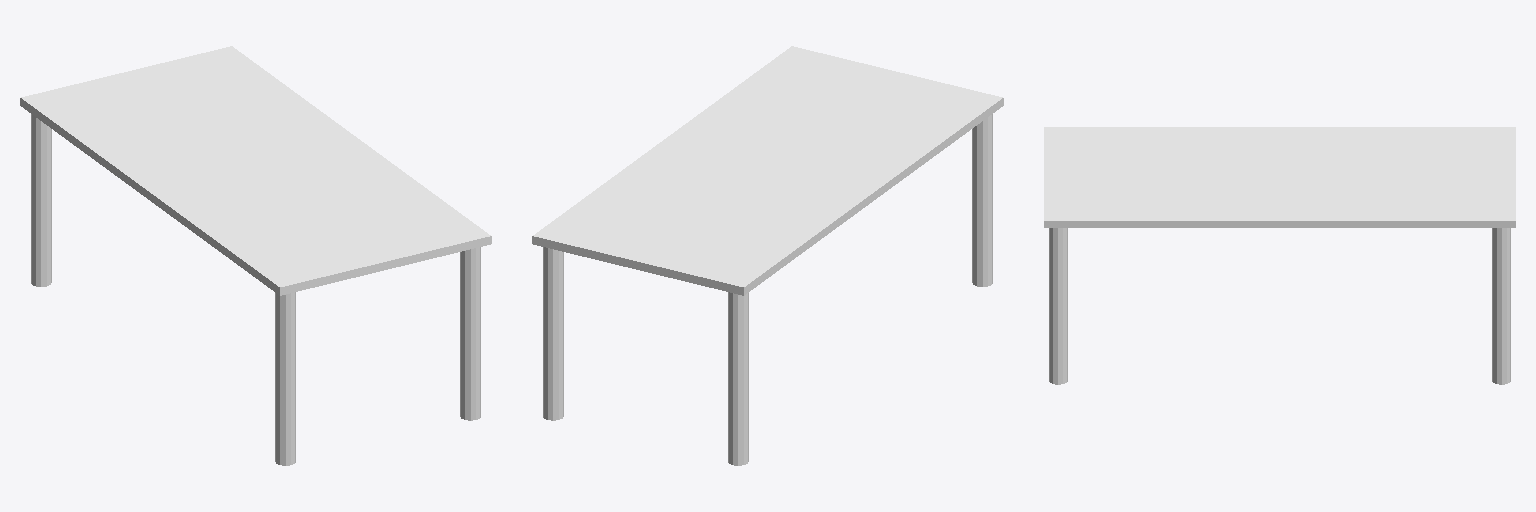
The robot description file, URDF, robot "plus-1700-desk":
<?xml version="1.0"?>
<robot name="plus-1700-desk"
       xmlns:xi="http://www.w3.org/2001/XInclude"
       xmlns:gazebo="http://playerstage.sourceforge.net/gazebo/xmlschema/#gz"
       xmlns:model="http://playerstage.sourceforge.net/gazebo/xmlschema/#model"
       xmlns:sensor="http://playerstage.sourceforge.net/gazebo/xmlschema/#sensor"
       xmlns:body="http://playerstage.sourceforge.net/gazebo/xmlschema/#body"
       xmlns:geom="http://playerstage.sourceforge.net/gazebo/xmlschema/#geom"
       xmlns:joint="http://playerstage.sourceforge.net/gazebo/xmlschema/#joint"
       xmlns:interface="http://playerstage.sourceforge.net/gazebo/xmlschema/#interface"
       xmlns:rendering="http://playerstage.sourceforge.net/gazebo/xmlschema/#rendering"
       xmlns:renderable="http://playerstage.sourceforge.net/gazebo/xmlschema/#renderable"
       xmlns:controller="http://playerstage.sourceforge.net/gazebo/xmlschema/#controller"
       xmlns:physics="http://playerstage.sourceforge.net/gazebo/xmlschema/#physics">
  <gazebo>
    <static>false</static>
  </gazebo>
  <link name="nil_link">
    <visual>
      <origin xyz="0 0 0" rpy="0 -0 0"/>
      <geometry>
        <mesh filename="model://plus-1700-desk/meshes/nil_link_mesh.dae" scale="1 1 1" />
      </geometry>
    </visual>
    <collision>
      <origin xyz="0 0 0" rpy="0 -0 0"/>
      <geometry>
        <mesh filename="model://plus-1700-desk/meshes/nil_link_mesh.dae" scale="1 1 1" />
      </geometry>
    </collision>
    <inertial>
      <mass value="0.001" />
      <origin xyz="0 0 0" rpy="0 -0 0"/>
      <inertia ixx="1e-09" ixy="0" ixz="0" iyy="1e-09" iyz="0" izz="1e-09"/>
    </inertial>
  </link>
  <gazebo reference="nil_link">
    <mu1>0.9</mu1>
    <mu2>0.9</mu2>
  </gazebo>
</robot>

--- What the picture shows (computed from the rendered views, not written in the file) ---
The picture shows the robot from 3 angles, left to right: view 1: azimuth 30°, elevation 25°; view 2: azimuth 150°, elevation 25°; view 3: azimuth 270°, elevation 25°; orthographic projection.
Model plus-1700-desk with 1 links and 0 joints (none), rooted at nil_link, posed every joint at zero.
Links seen in each view (by area): view 1: nil_link; view 2: nil_link; view 3: nil_link.
Link boxes in pixels (box(x1,y1,x2,y2)): nil_link: box(20, 46, 491, 465); nil_link: box(532, 46, 1003, 465); nil_link: box(1044, 127, 1515, 384).
Size in the robot's own frame: 0.8 by 1.7 by 0.66 metres.
Meshes: 1 distinct files referenced, 1 mesh visuals loaded (1 Collada DAE).
